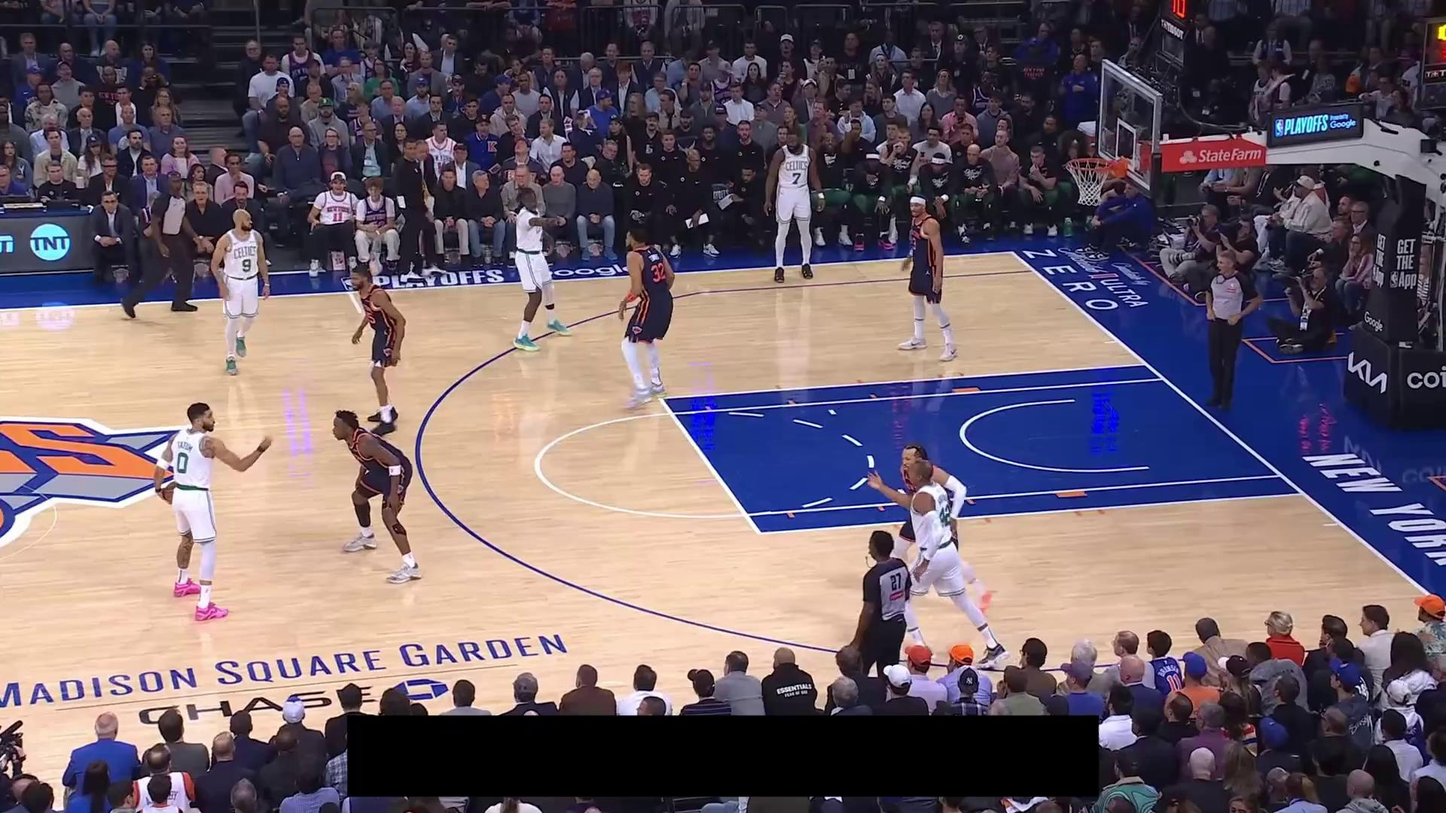number: (938, 502, 951, 527), (650, 262, 665, 282), (176, 452, 188, 474), (241, 257, 252, 273), (791, 171, 802, 186)
player: (866, 460, 1011, 672), (152, 401, 274, 623), (892, 443, 993, 615), (331, 408, 424, 586), (508, 181, 574, 354), (616, 227, 677, 411), (896, 193, 959, 363), (209, 208, 272, 376), (349, 264, 407, 437), (764, 125, 825, 283)
referee: (119, 171, 211, 320), (1203, 249, 1263, 412), (848, 529, 912, 676)
rim: (1065, 157, 1114, 172)
